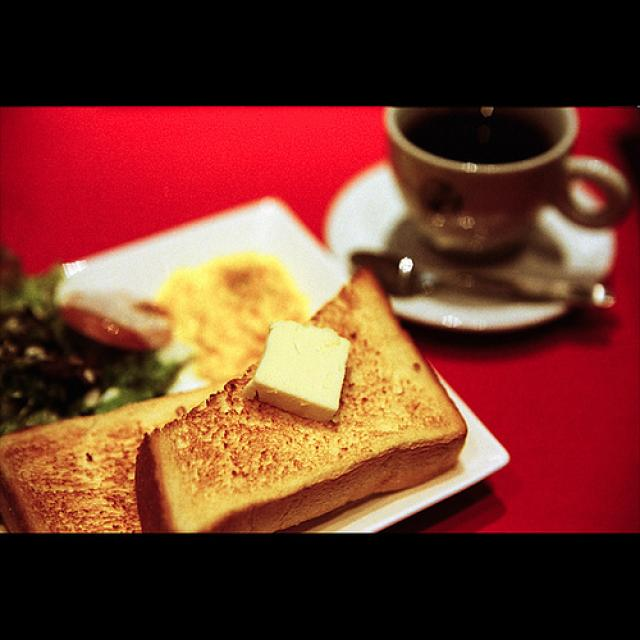面包点心: (4, 266, 462, 535)
